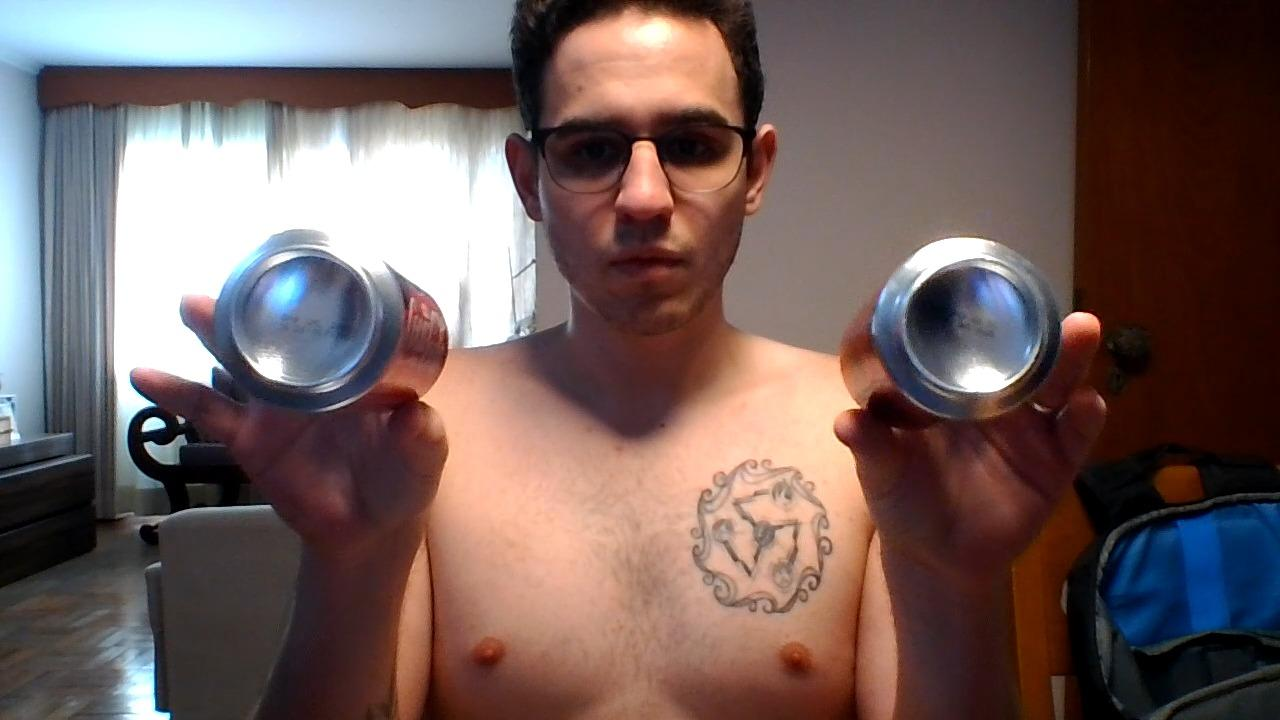coke: (200, 228, 450, 418), (837, 234, 1061, 436)
